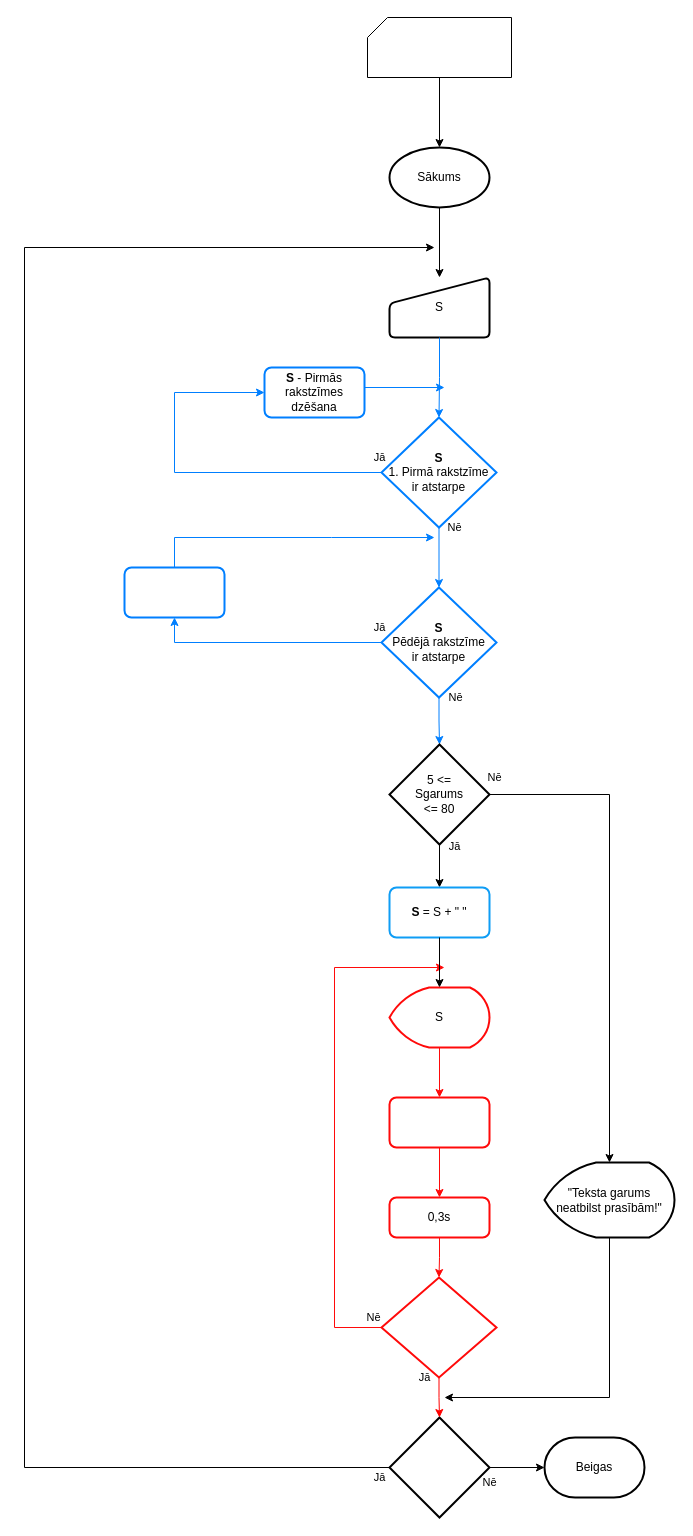
The diagram is 693 pixels wide and 1536 high, and some of its shapes have lost their labels. The centre of each missing label's shape, as x and y in pixels:
Atkārtot: (x=439, y=1467)
Nospiests kāds taustiņš: (x=438, y=1327)
Pirmā S burta pārcelšana uz beigām: (x=439, y=1122)
S - Pēdējās rakstzīmes dzēšana: (x=174, y=592)
S - teksts "skrejošajai rindai" (garums 5 - 80 simboli): (x=439, y=47)
